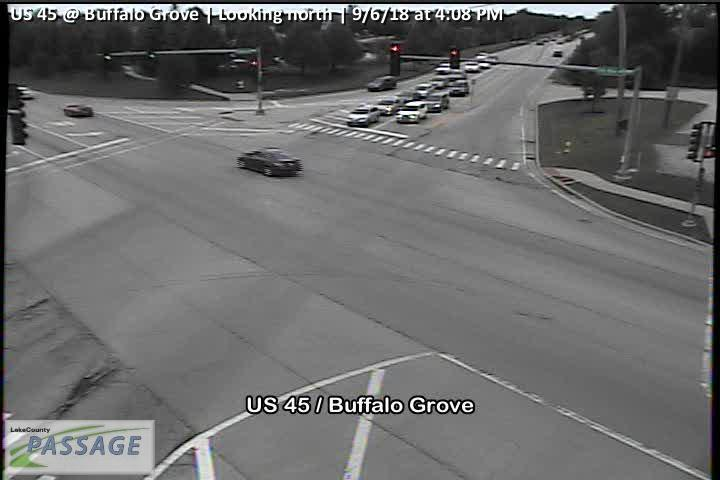SUV: (345, 104, 381, 128), (395, 101, 428, 126), (367, 74, 398, 91), (424, 92, 449, 112), (449, 79, 470, 97), (13, 84, 34, 100), (418, 82, 430, 95), (552, 49, 563, 59), (475, 51, 487, 60)
Sedan: (235, 146, 304, 179), (62, 102, 94, 120), (377, 98, 396, 115), (487, 49, 500, 65), (435, 61, 451, 73), (464, 60, 478, 72)
